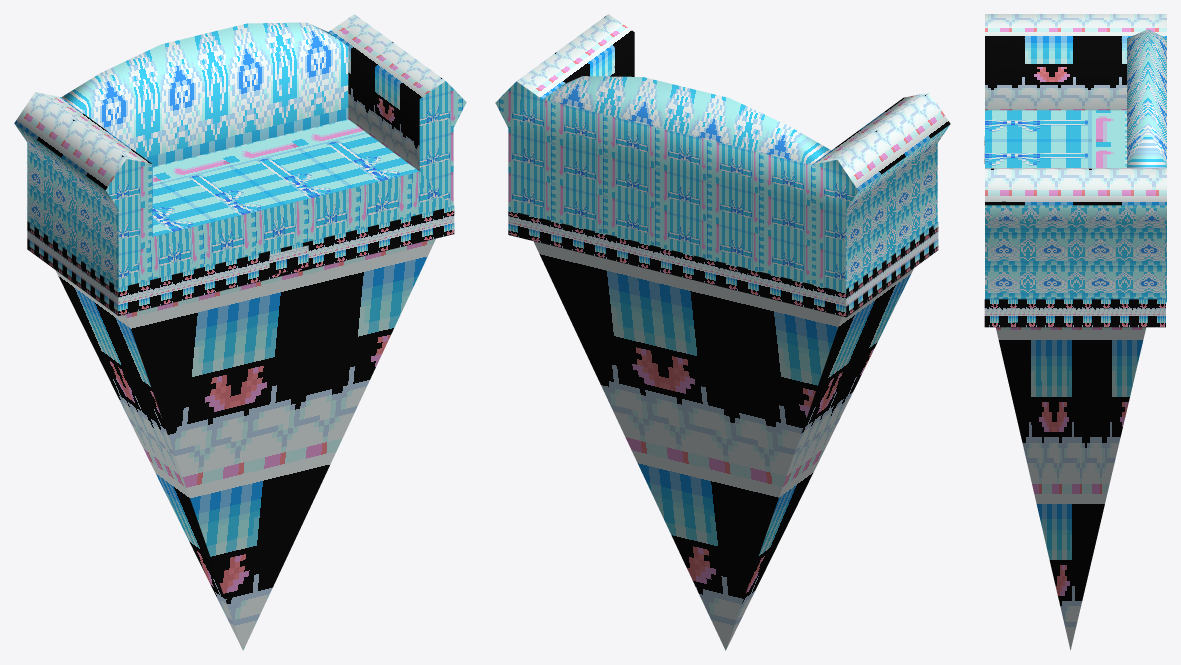
File: 3866kg3_ser47.gltf
3 views of the same model, side by side, from view 1: azimuth 30°, elevation 25°; view 2: azimuth 150°, elevation 25°; view 3: azimuth 270°, elevation 25° (orthographic).
Parts seen in each view (by area): view 1: 3866kg3_ser47; view 2: 3866kg3_ser47; view 3: 3866kg3_ser47.
Boxes of the visible parts, x1=… form: 3866kg3_ser47: x1=14, y1=14, x2=466, y2=650; 3866kg3_ser47: x1=495, y1=14, x2=950, y2=650; 3866kg3_ser47: x1=984, y1=14, x2=1166, y2=650.
Size of the model in its own units: 1.92 by 2.99 by 0.8694.
3 materials, 3 textured.
